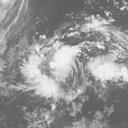cyclone: (22, 39, 84, 98)
